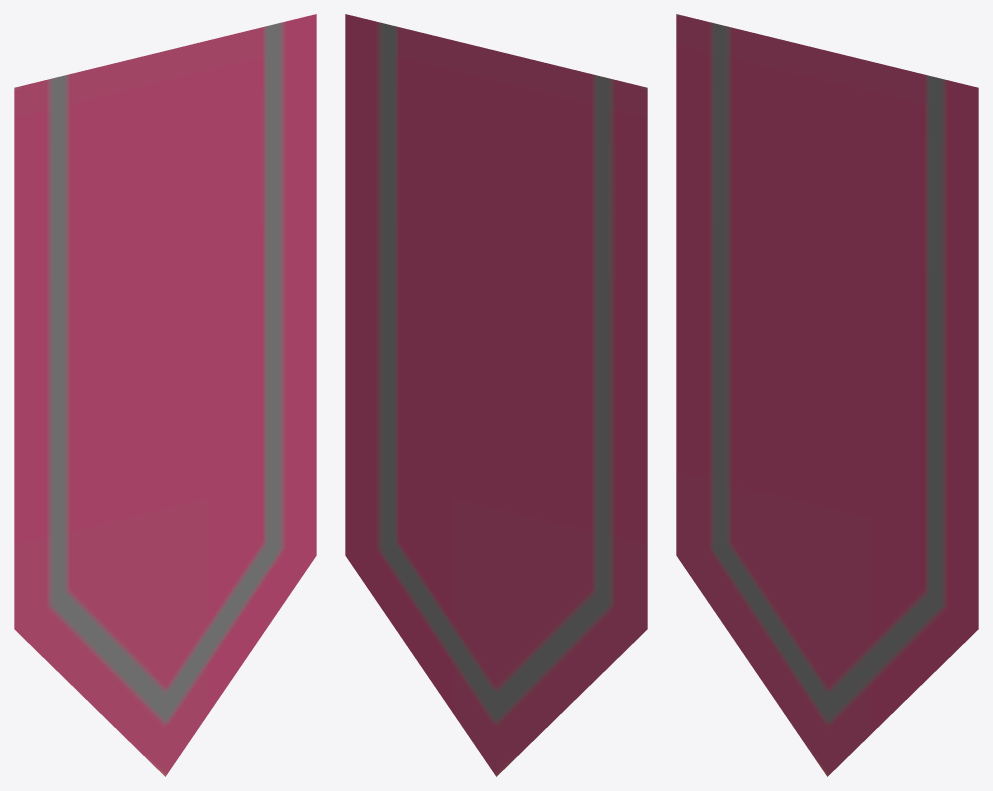
The model's file is Flag02_02.fbx.
3 views of the same model, side by side, from view 1: azimuth 30°, elevation 25°; view 2: azimuth 150°, elevation 25°; view 3: azimuth 330°, elevation 25° (orthographic).
Parts seen in each view (by area): view 1: Plane021; view 2: Plane021; view 3: Plane021.
Boxes of the visible parts, left/top/right/bottom form: Plane021: left=14, top=14, right=316, bottom=776; Plane021: left=345, top=14, right=647, bottom=776; Plane021: left=676, top=14, right=978, bottom=776.
Size of the model in its own units: 91.79 by 211 by 0.000101.
